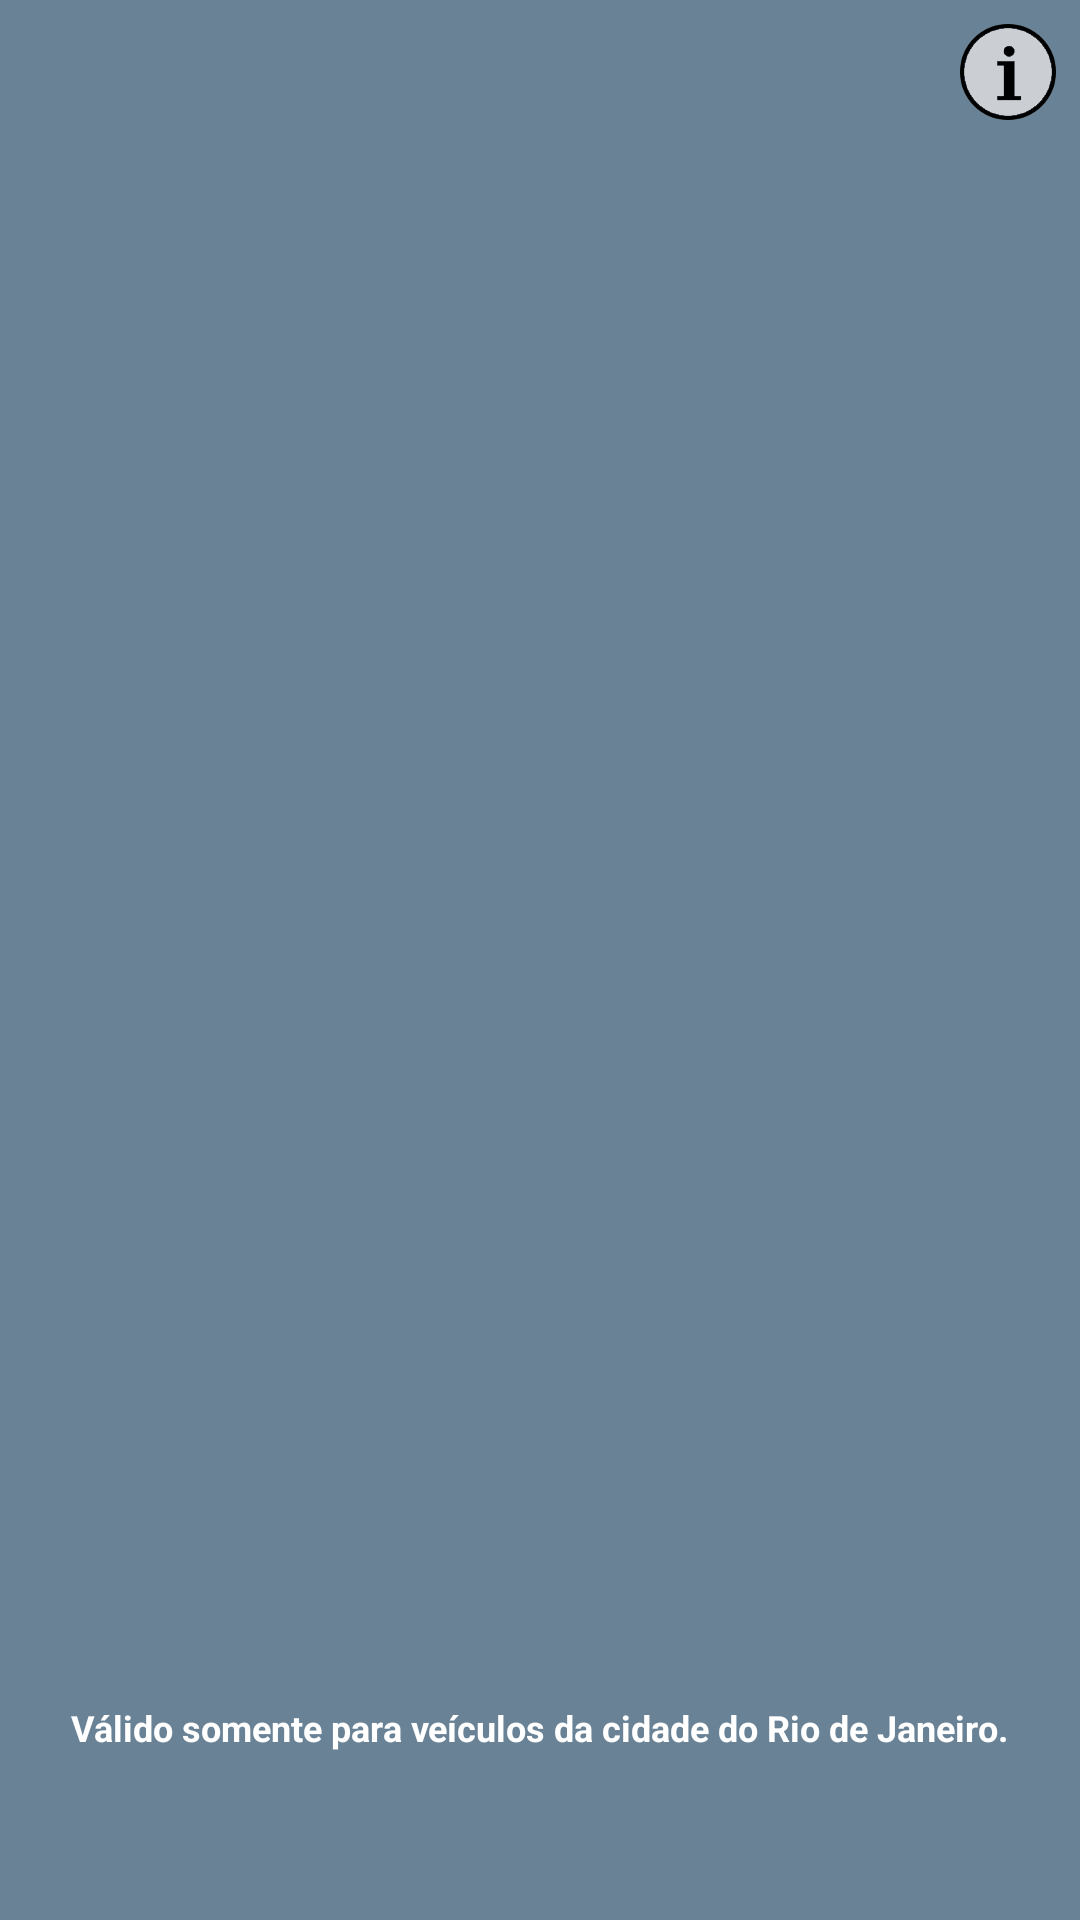

Screen size 1080x1920. Icon name, then its center in pixels as (x,y):
information: (1008,72)
